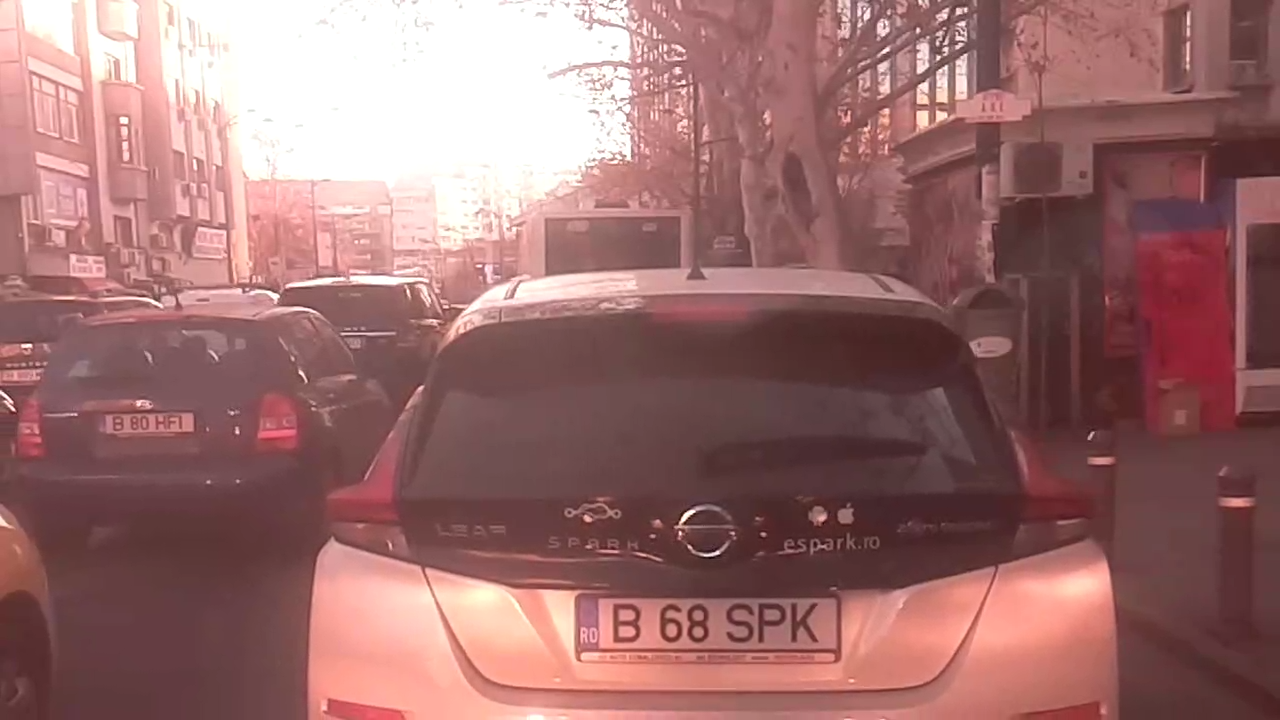license-plate: (568, 586, 849, 670), (94, 408, 202, 438)
